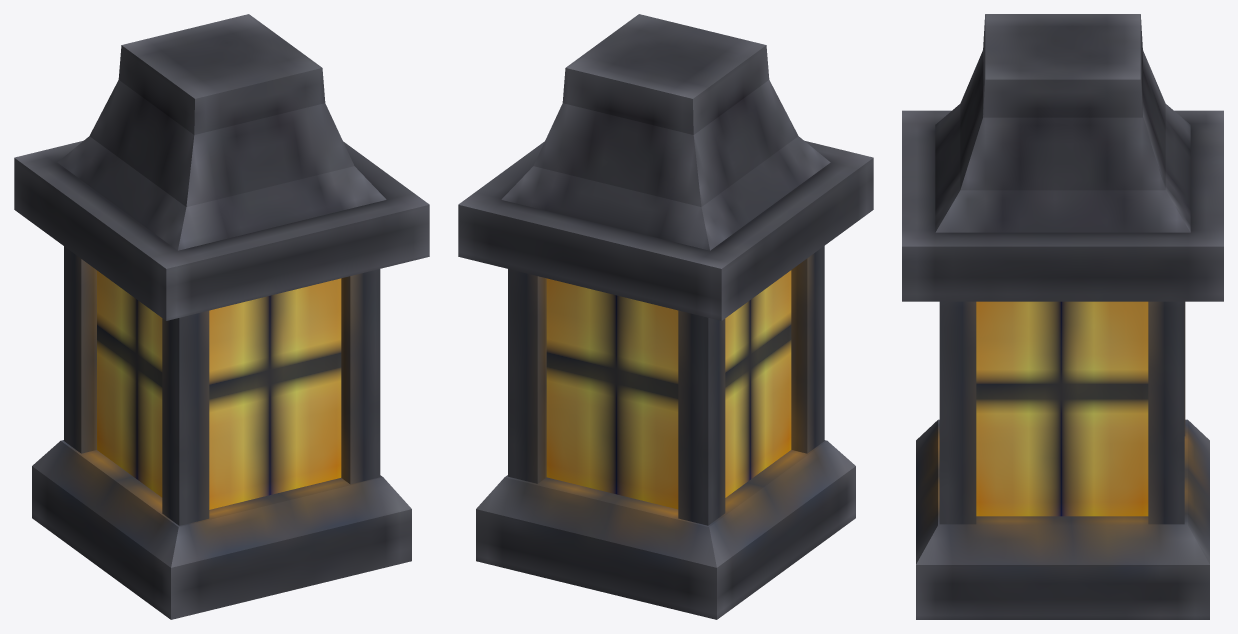
Rendered from st_light.FBX.
3 renders of one model, left to right at view 1: azimuth 30°, elevation 25°; view 2: azimuth 150°, elevation 25°; view 3: azimuth 270°, elevation 25°, orthographic. The views are drawn at different scales.
Parts seen in each view (by area): view 1: st_light; view 2: st_light; view 3: st_light.
Part boxes in pixels (x1,y1,x2,y2): st_light: (14,14,429,619); st_light: (458,14,873,619); st_light: (902,14,1223,619).
Bounding box in the file's own units: 10.34 × 18.12 × 10.34.
